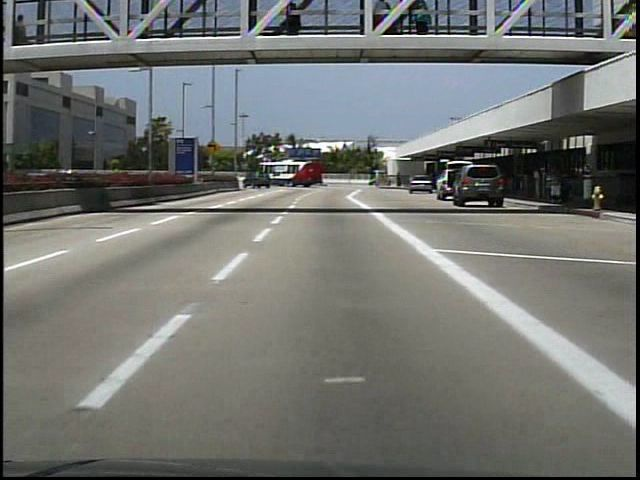person: (544, 159, 568, 207), (284, 7, 307, 39)
